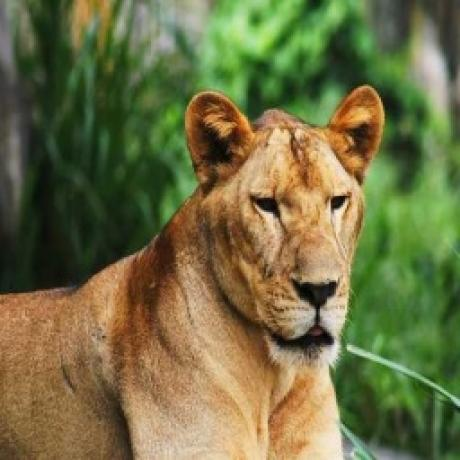Lion: (0, 82, 387, 460)
